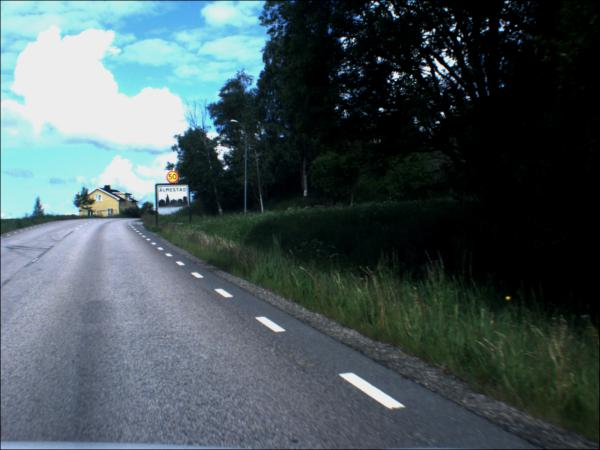50_SIGN: (167, 171, 180, 185)
